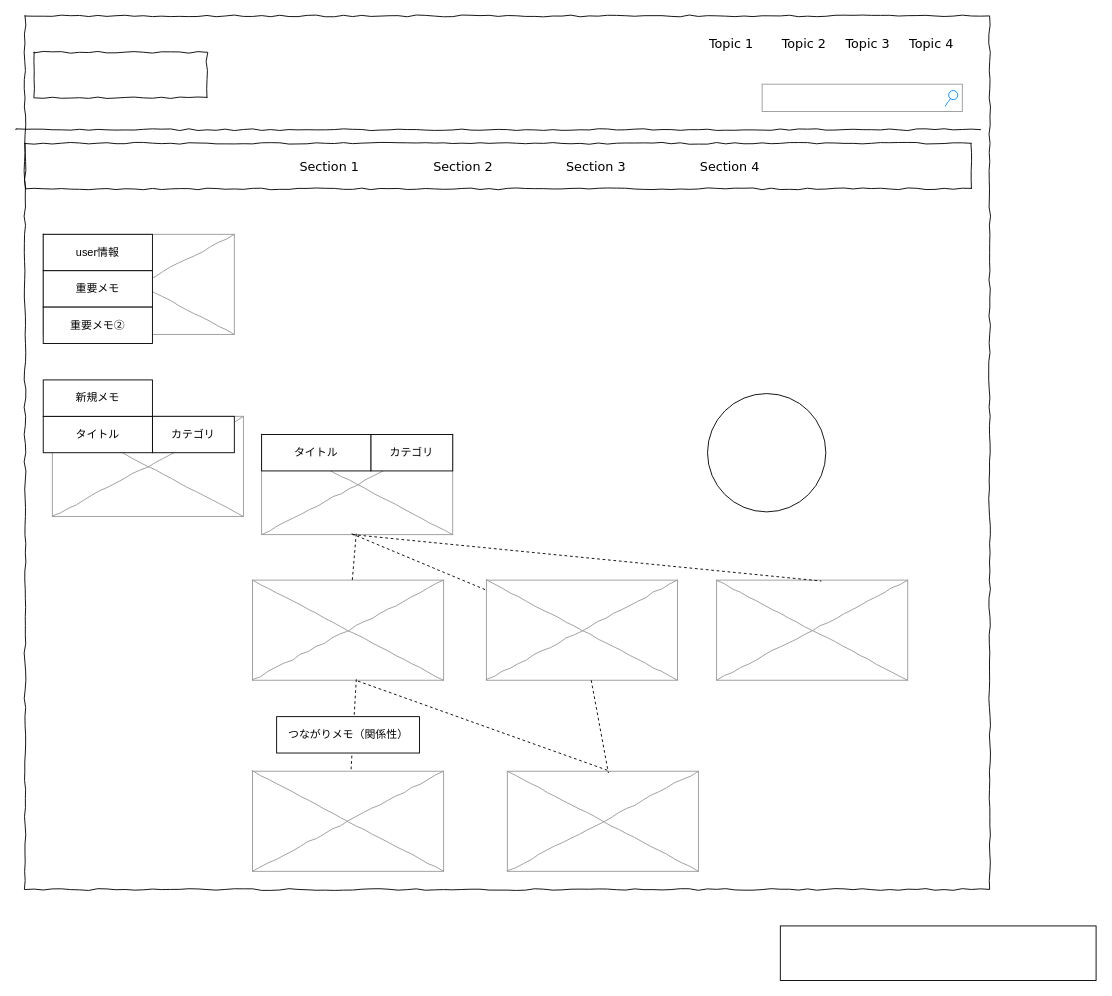
The diagram is 1112 pixels wide and 996 high, and some of its shapes have lost their labels. The shapes that lost their labels are listed below. From the top down, each one's box as (x1, y1, x2, y2) in pixels, then its label:
(33, 51, 207, 98): LOGO
(761, 83, 962, 111): Search
(707, 393, 826, 512): ＋メモ編集
(779, 925, 1096, 981): しっかりメモできる 内容、つながりとの関係、ジャンル
